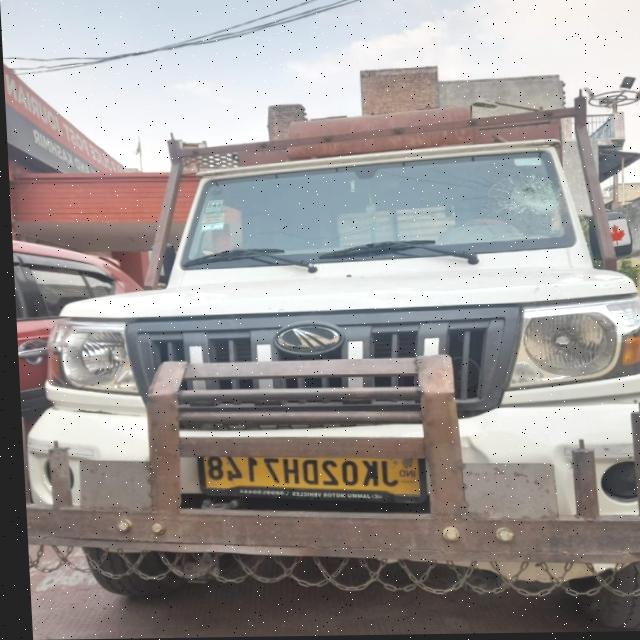plate: (187, 452, 428, 514)
